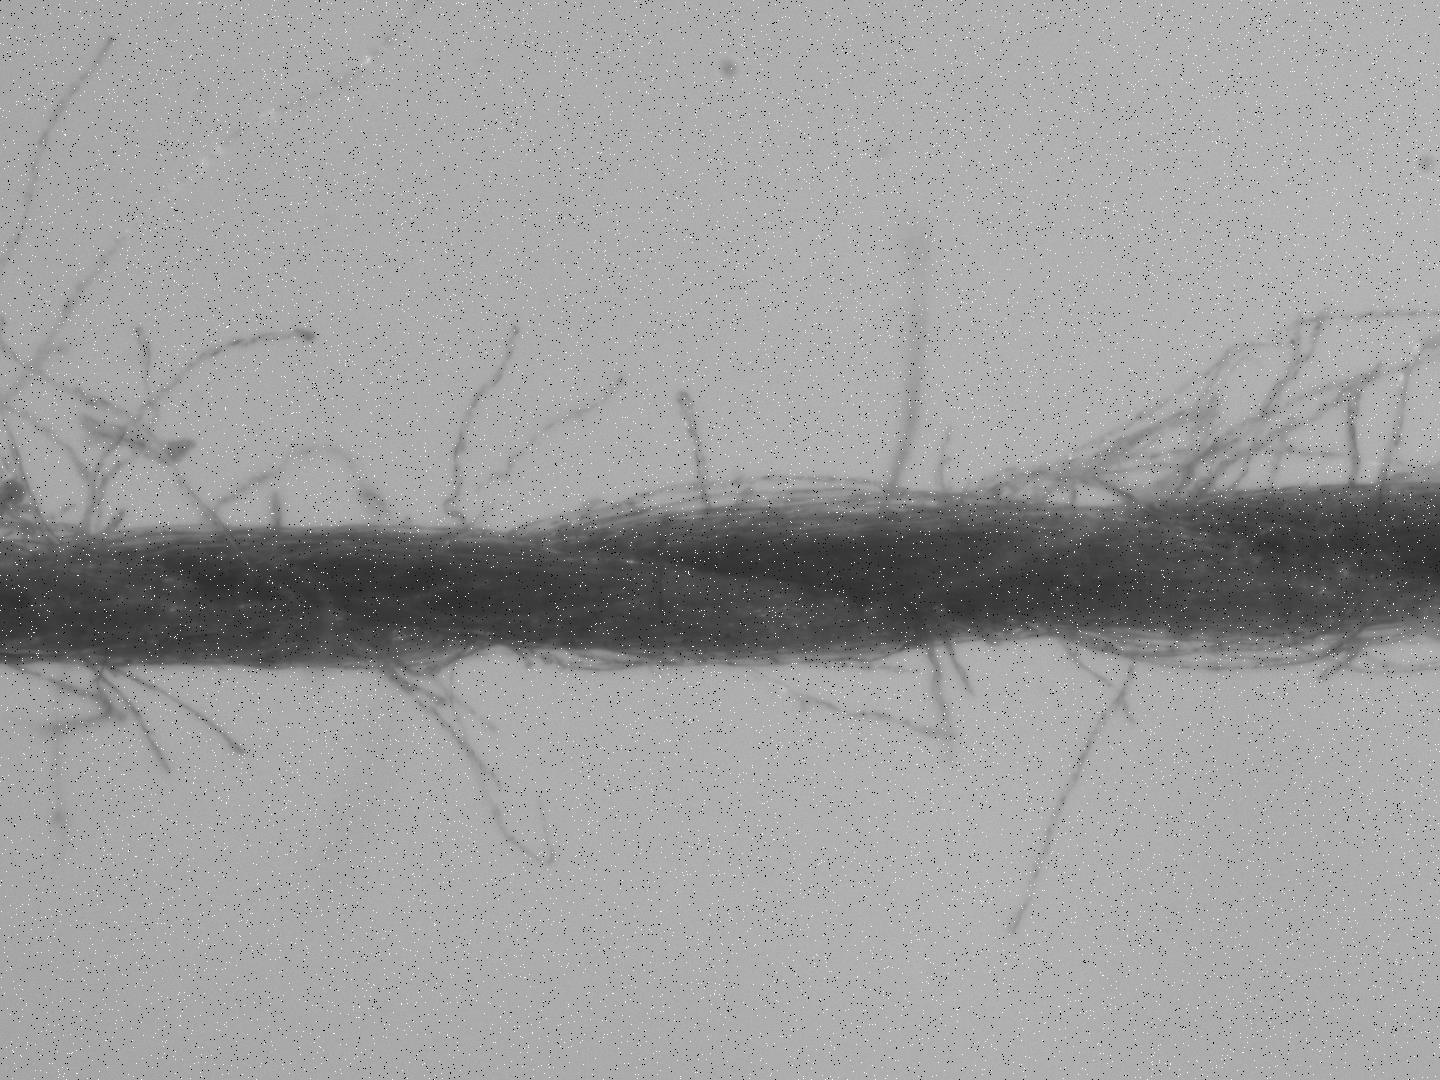loop_fiber: (534, 459, 1053, 543), (190, 438, 401, 539), (493, 643, 669, 678)
protruding_fiber: (0, 1, 443, 414), (994, 630, 1147, 951), (406, 657, 576, 875), (0, 36, 120, 284), (858, 185, 940, 525), (448, 369, 630, 508), (422, 315, 530, 545), (720, 660, 976, 744), (86, 655, 248, 767), (1034, 627, 1161, 742), (78, 653, 184, 781), (909, 609, 963, 774), (43, 651, 74, 861), (929, 413, 971, 520)
